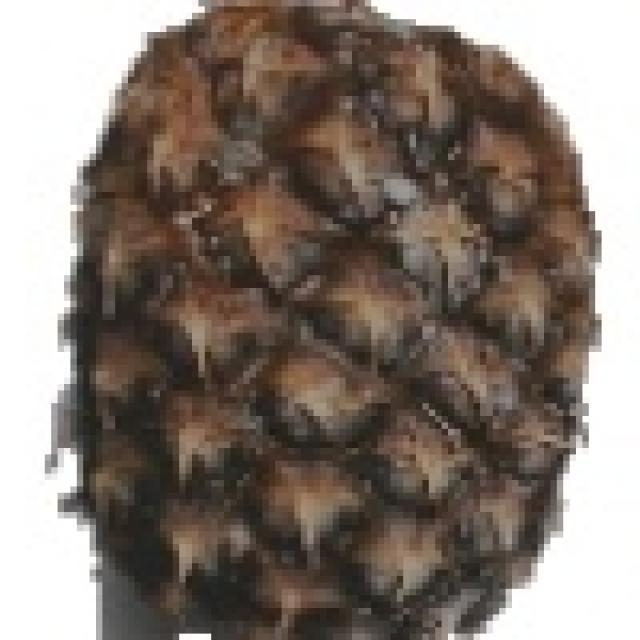pineapple: (55, 0, 599, 640)
